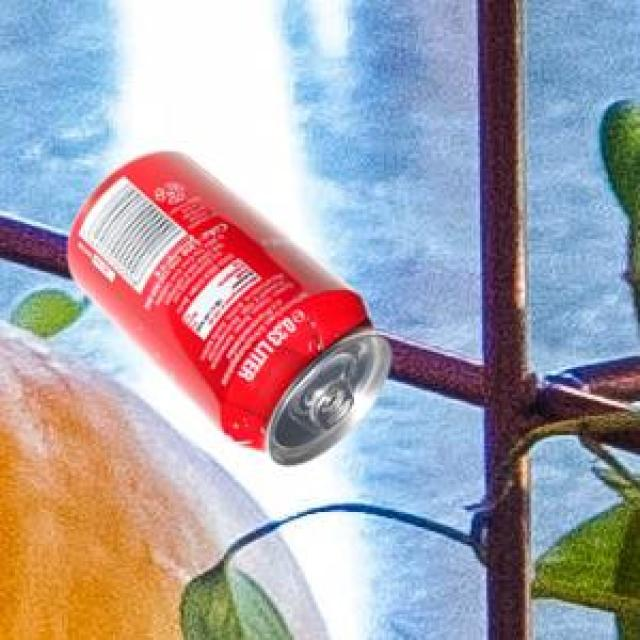Can: (65, 148, 385, 462)
